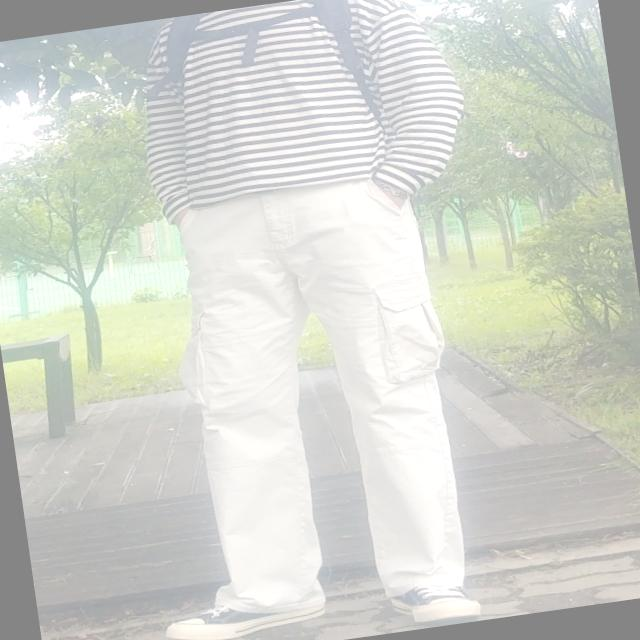cottonpants: (154, 170, 478, 630)
longsleeve: (121, 0, 476, 239)
